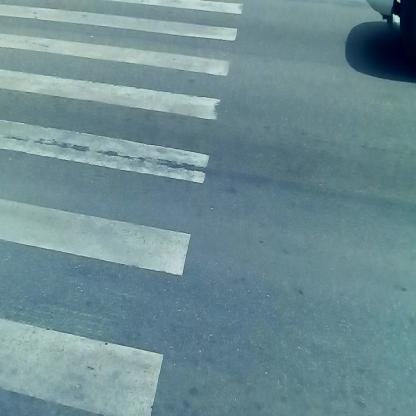crosswalk: (1, 6, 250, 412)
